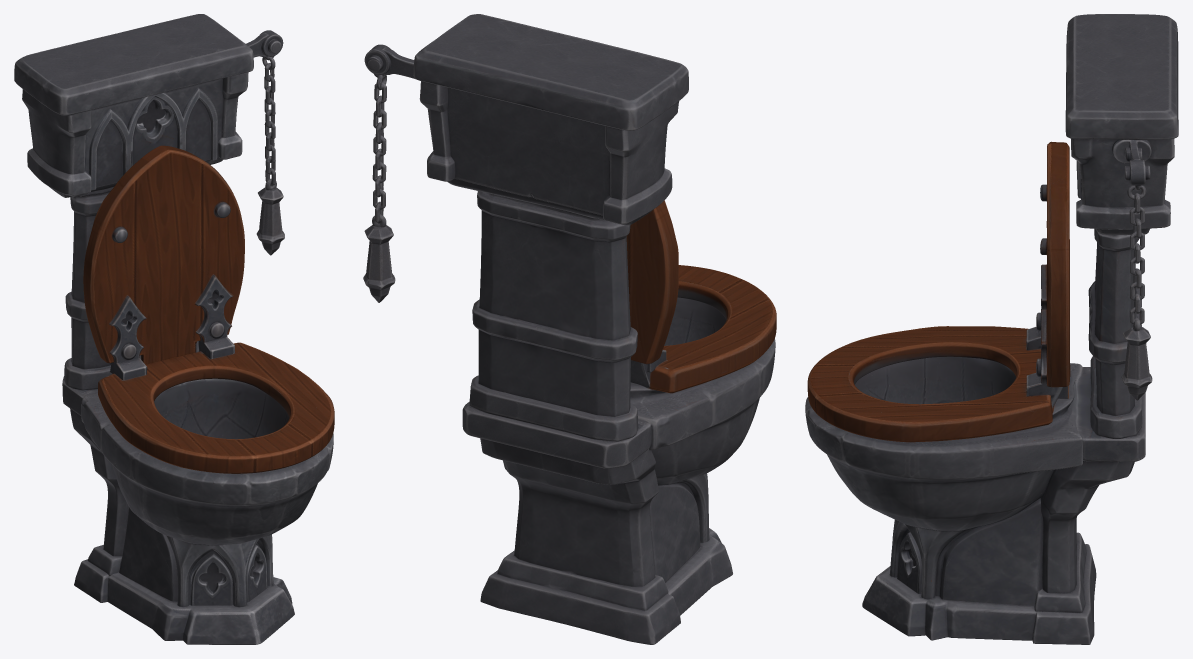
The model's file is ENV_ToiletFixture_Up.fbx.
The picture shows the model from 3 angles, left to right: view 1: azimuth 30°, elevation 25°; view 2: azimuth 150°, elevation 25°; view 3: azimuth 270°, elevation 25°; orthographic projection. The views are drawn at different scales.
Visible parts, largest first — view 1: Mesh_0; view 2: Mesh_0; view 3: Mesh_0.
Boxes of the visible parts, left/top/right/bottom form: Mesh_0: left=14, top=14, right=334, bottom=644; Mesh_0: left=363, top=14, right=776, bottom=644; Mesh_0: left=805, top=14, right=1178, bottom=644.
Size of the model in its own units: 101 by 190 by 119.
Materials: 1 (1 with a texture image).
